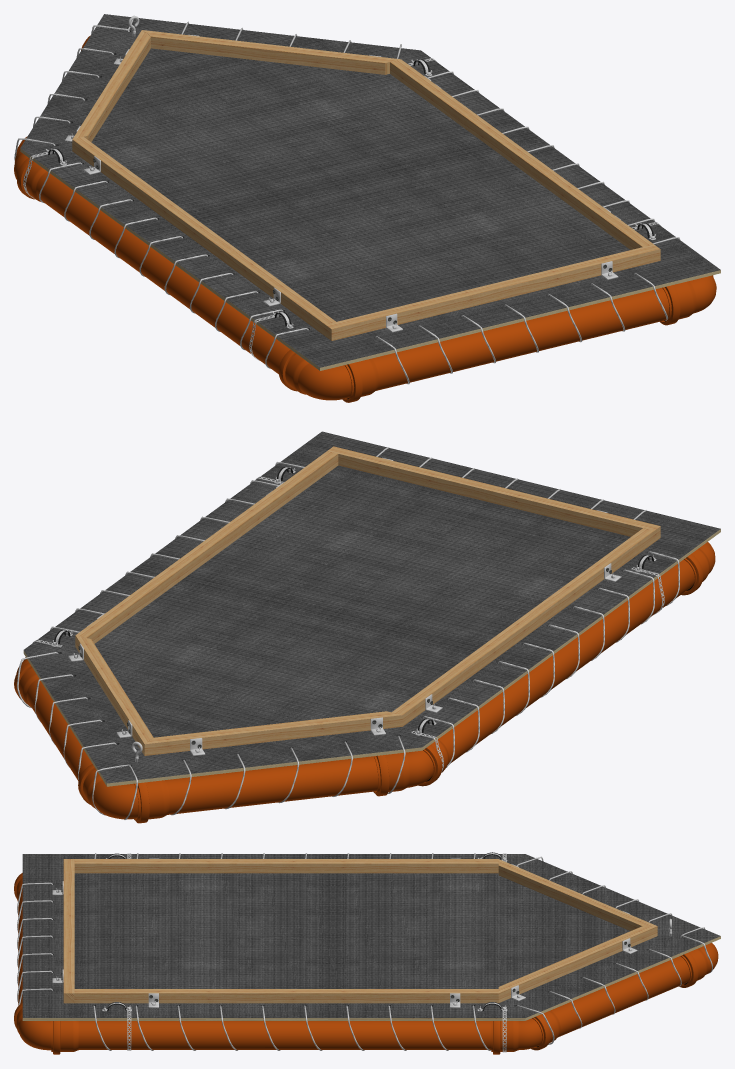
The picture shows the model from 3 angles, top to bottom: view 1: azimuth 30°, elevation 25°; view 2: azimuth 150°, elevation 25°; view 3: azimuth 270°, elevation 25°; orthographic projection. The views are drawn at different scales.
Parts seen in each view (by area): view 1: Плоскость.010, Окружность.008, Окружность, Куб.032, Куб.058, Куб.057, Куб.061, Окружность.009, Куб.060, Окружность.007, Плоскость.005, Плоскость.009 (+2 smaller); view 2: Плоскость.010, Окружность, Окружность.002, Куб.032, Куб.058, Куб.057, Куб.060, Окружность.004, Куб.061, Окружность.001, Окружность.003, Плоскость.007 (+3 smaller); view 3: Плоскость.010, Окружность.006, Куб.057, Куб.058, Окружность.004, Куб.061, Куб.060, Куб.032, Окружность.005, Плоскость.006, Окружность.007, Плоскость.007 (+3 smaller).
Boxes of the visible parts, left/top/right/bottom form: Плоскость.010: left=20, top=14, right=720, bottom=370; Окружность.008: left=342, top=287, right=669, bottom=402; Окружность: left=16, top=158, right=290, bottom=374; Куб.032: left=325, top=244, right=660, bottom=340; Куб.058: left=390, top=59, right=653, bottom=249; Куб.057: left=72, top=137, right=335, bottom=335; Куб.061: left=142, top=30, right=399, bottom=74; Окружность.009: left=278, top=349, right=351, bottom=400; Куб.060: left=72, top=30, right=150, bottom=142; Окружность.007: left=660, top=275, right=716, bottom=325; Плоскость.005: left=39, top=162, right=308, bottom=368; Плоскость.009: left=375, top=273, right=667, bottom=384; Плоскость.010: left=23, top=431, right=720, bottom=786; Окружность: left=418, top=559, right=694, bottom=786; Окружность.002: left=134, top=756, right=378, bottom=823; Куб.032: left=327, top=446, right=660, bottom=542; Куб.058: left=76, top=451, right=338, bottom=643; Куб.057: left=392, top=528, right=654, bottom=726; Куб.060: left=144, top=711, right=402, bottom=755; Окружность.004: left=14, top=662, right=92, bottom=780; Куб.061: left=75, top=635, right=153, bottom=755; Окружность.001: left=373, top=750, right=433, bottom=796; Окружность.003: left=78, top=764, right=138, bottom=819; Плоскость.007: left=17, top=652, right=405, bottom=819; Плоскость.010: left=22, top=854, right=720, bottom=1020; Окружность.006: left=51, top=1021, right=491, bottom=1054; Куб.057: left=74, top=859, right=498, bottom=873; Куб.058: left=74, top=989, right=498, bottom=1003; Окружность.004: left=531, top=956, right=689, bottom=1050; Куб.061: left=498, top=926, right=657, bottom=1002; Куб.060: left=498, top=859, right=657, bottom=930; Куб.032: left=63, top=859, right=74, bottom=1003; Окружность.005: left=491, top=1018, right=542, bottom=1054; Плоскость.006: left=93, top=1005, right=490, bottom=1050; Окружность.007: left=14, top=1003, right=51, bottom=1050; Плоскость.007: left=516, top=856, right=712, bottom=1044.
Size of the model in its own units: 1.5 by 0.2237 by 2.6.
